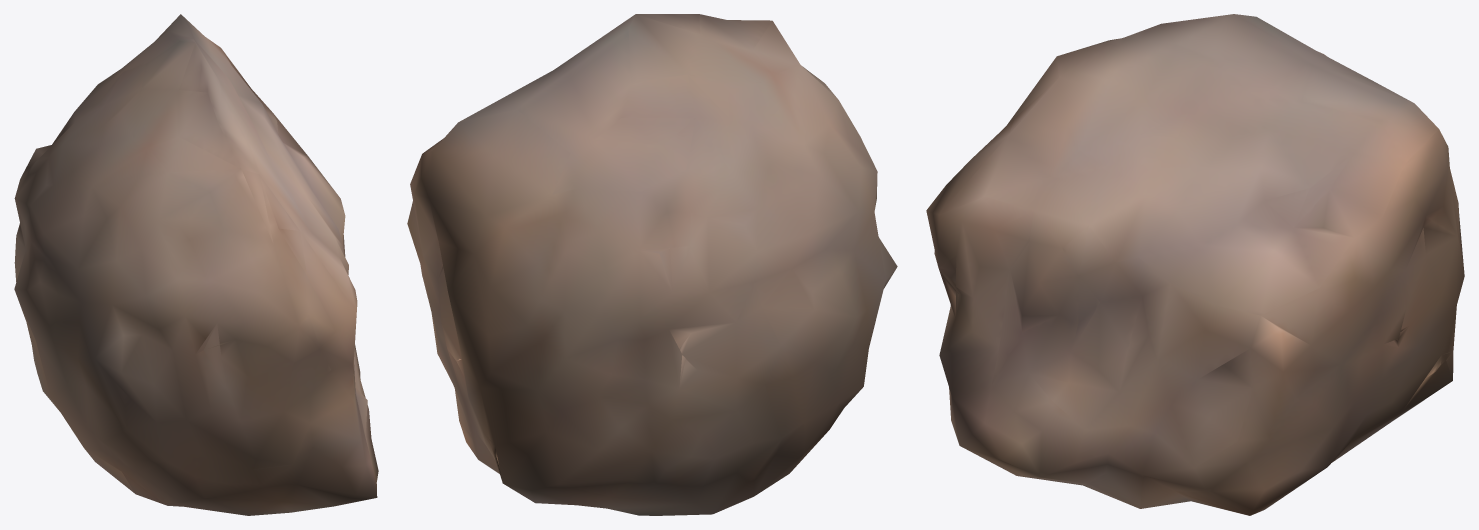
File: marble.glb
3 views of the same model, side by side, from view 1: azimuth 30°, elevation 25°; view 2: azimuth 150°, elevation 25°; view 3: azimuth 270°, elevation 25° (orthographic). The views are drawn at different scales.
Parts seen in each view (by area): view 1: model; view 2: model; view 3: model.
Part boxes in pixels (box(x1,y1,x2,y2)): model: box(14, 14, 378, 515); model: box(407, 14, 897, 515); model: box(926, 14, 1464, 515).
Size of the model in its own units: 0.3008 by 0.3711 by 0.399.
1 material, 1 textured.
